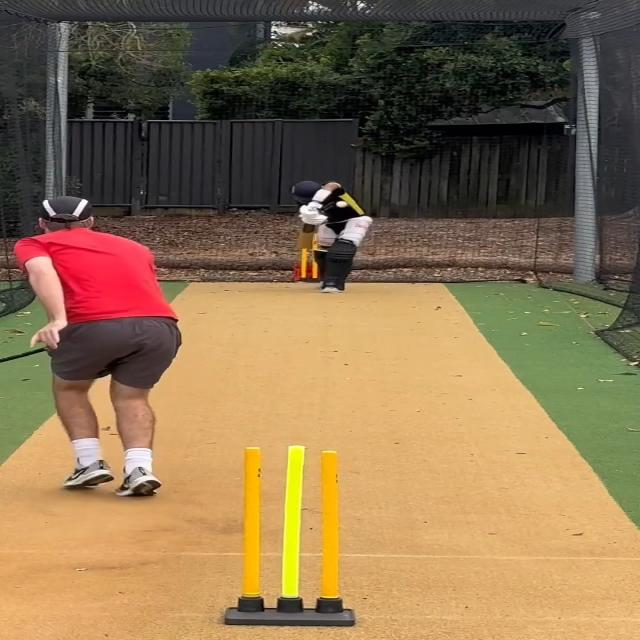ball: (335, 200, 348, 208)
stump: (224, 446, 354, 627)
